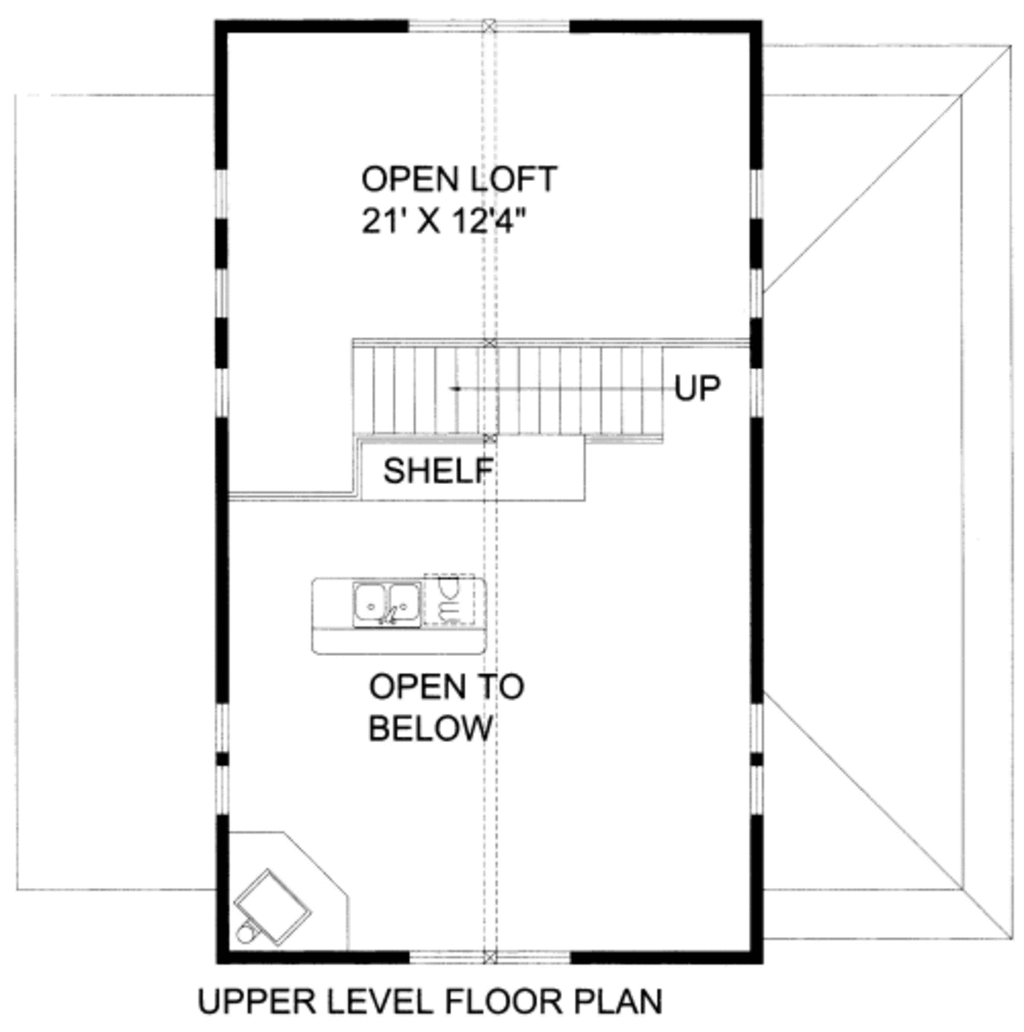stairs: (337, 328, 667, 440)
twin_sink: (346, 569, 430, 631)
window: (211, 175, 241, 437), (743, 164, 772, 418), (408, 942, 576, 977), (402, 12, 568, 36), (208, 702, 243, 815), (748, 693, 776, 824)
